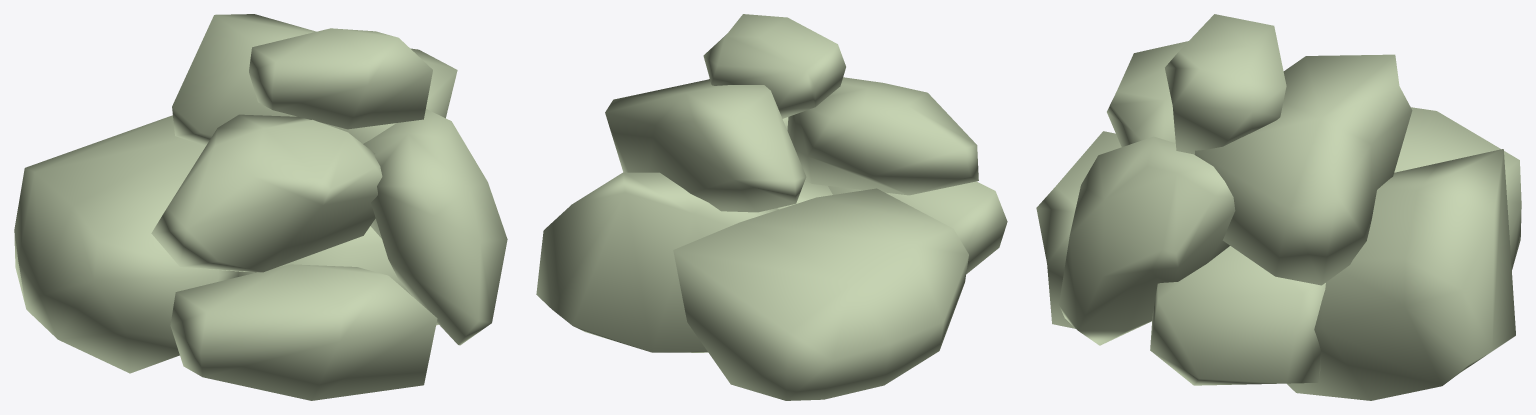
The model's file is Slab_Rubble_Pile_01_Lod0.fbx.
The picture shows the model from 3 angles, left to right: view 1: azimuth 30°, elevation 25°; view 2: azimuth 150°, elevation 25°; view 3: azimuth 270°, elevation 25°; orthographic projection. The views are drawn at different scales.
Parts seen in each view (by area): view 1: Slab_Rubble_Pile_01_Lod0; view 2: Slab_Rubble_Pile_01_Lod0; view 3: Slab_Rubble_Pile_01_Lod0.
Boxes of the visible parts, bbox=[...] form: Slab_Rubble_Pile_01_Lod0: bbox=[14, 14, 507, 400]; Slab_Rubble_Pile_01_Lod0: bbox=[536, 14, 1007, 400]; Slab_Rubble_Pile_01_Lod0: bbox=[1036, 14, 1521, 400].
Size of the model in its own units: 49.88 by 40.31 by 52.93.
